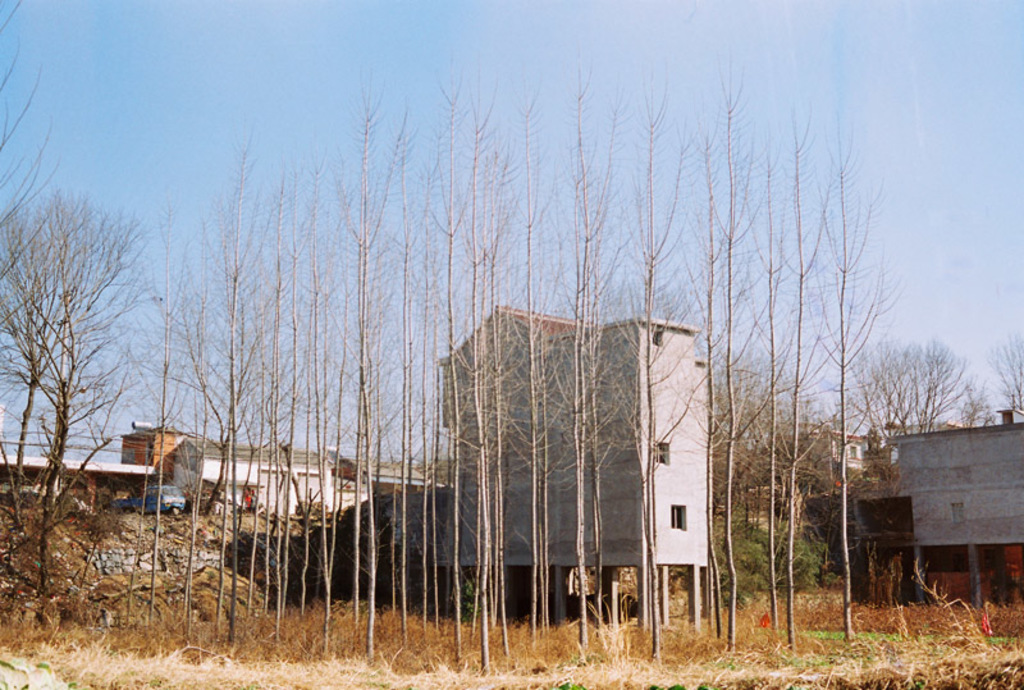Tree: (1, 40, 1022, 682), (23, 126, 190, 565)
